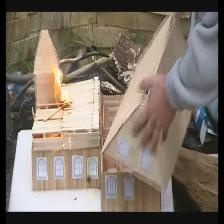fire: (46, 66, 71, 107)
